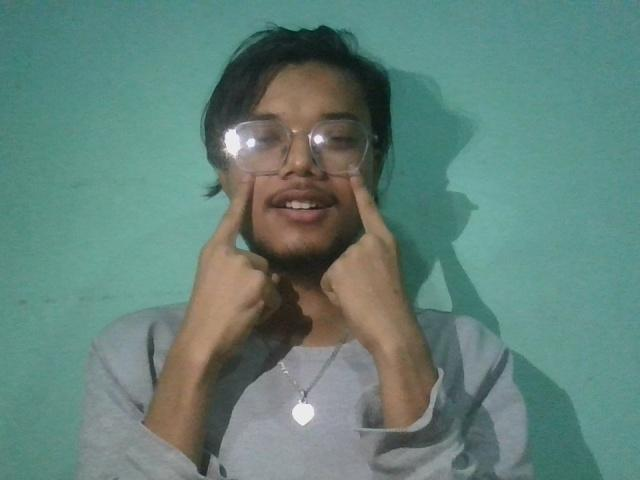Cry: (173, 153, 442, 382)
